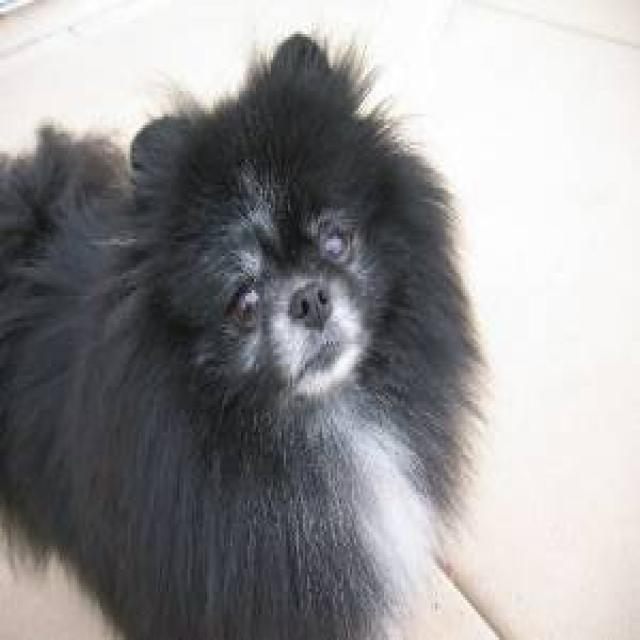dog-pomeranian: (2, 17, 478, 634)
